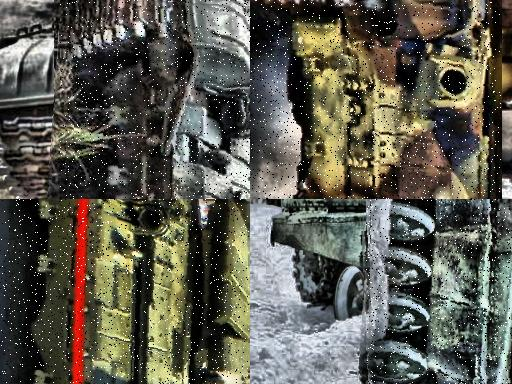tanks: (251, 1, 502, 200), (32, 200, 250, 384), (62, 1, 251, 200), (368, 200, 512, 384)
